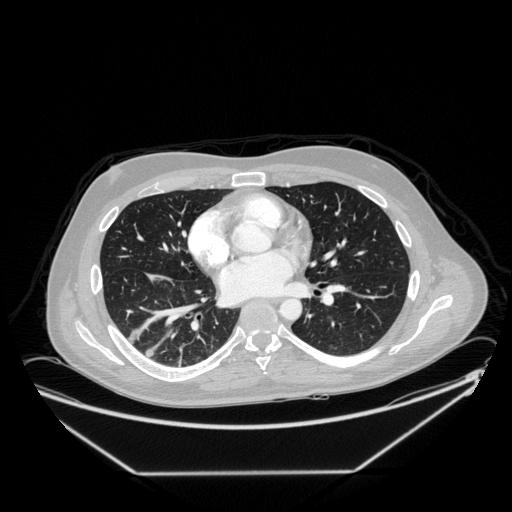nodule: (141, 345, 155, 359)
